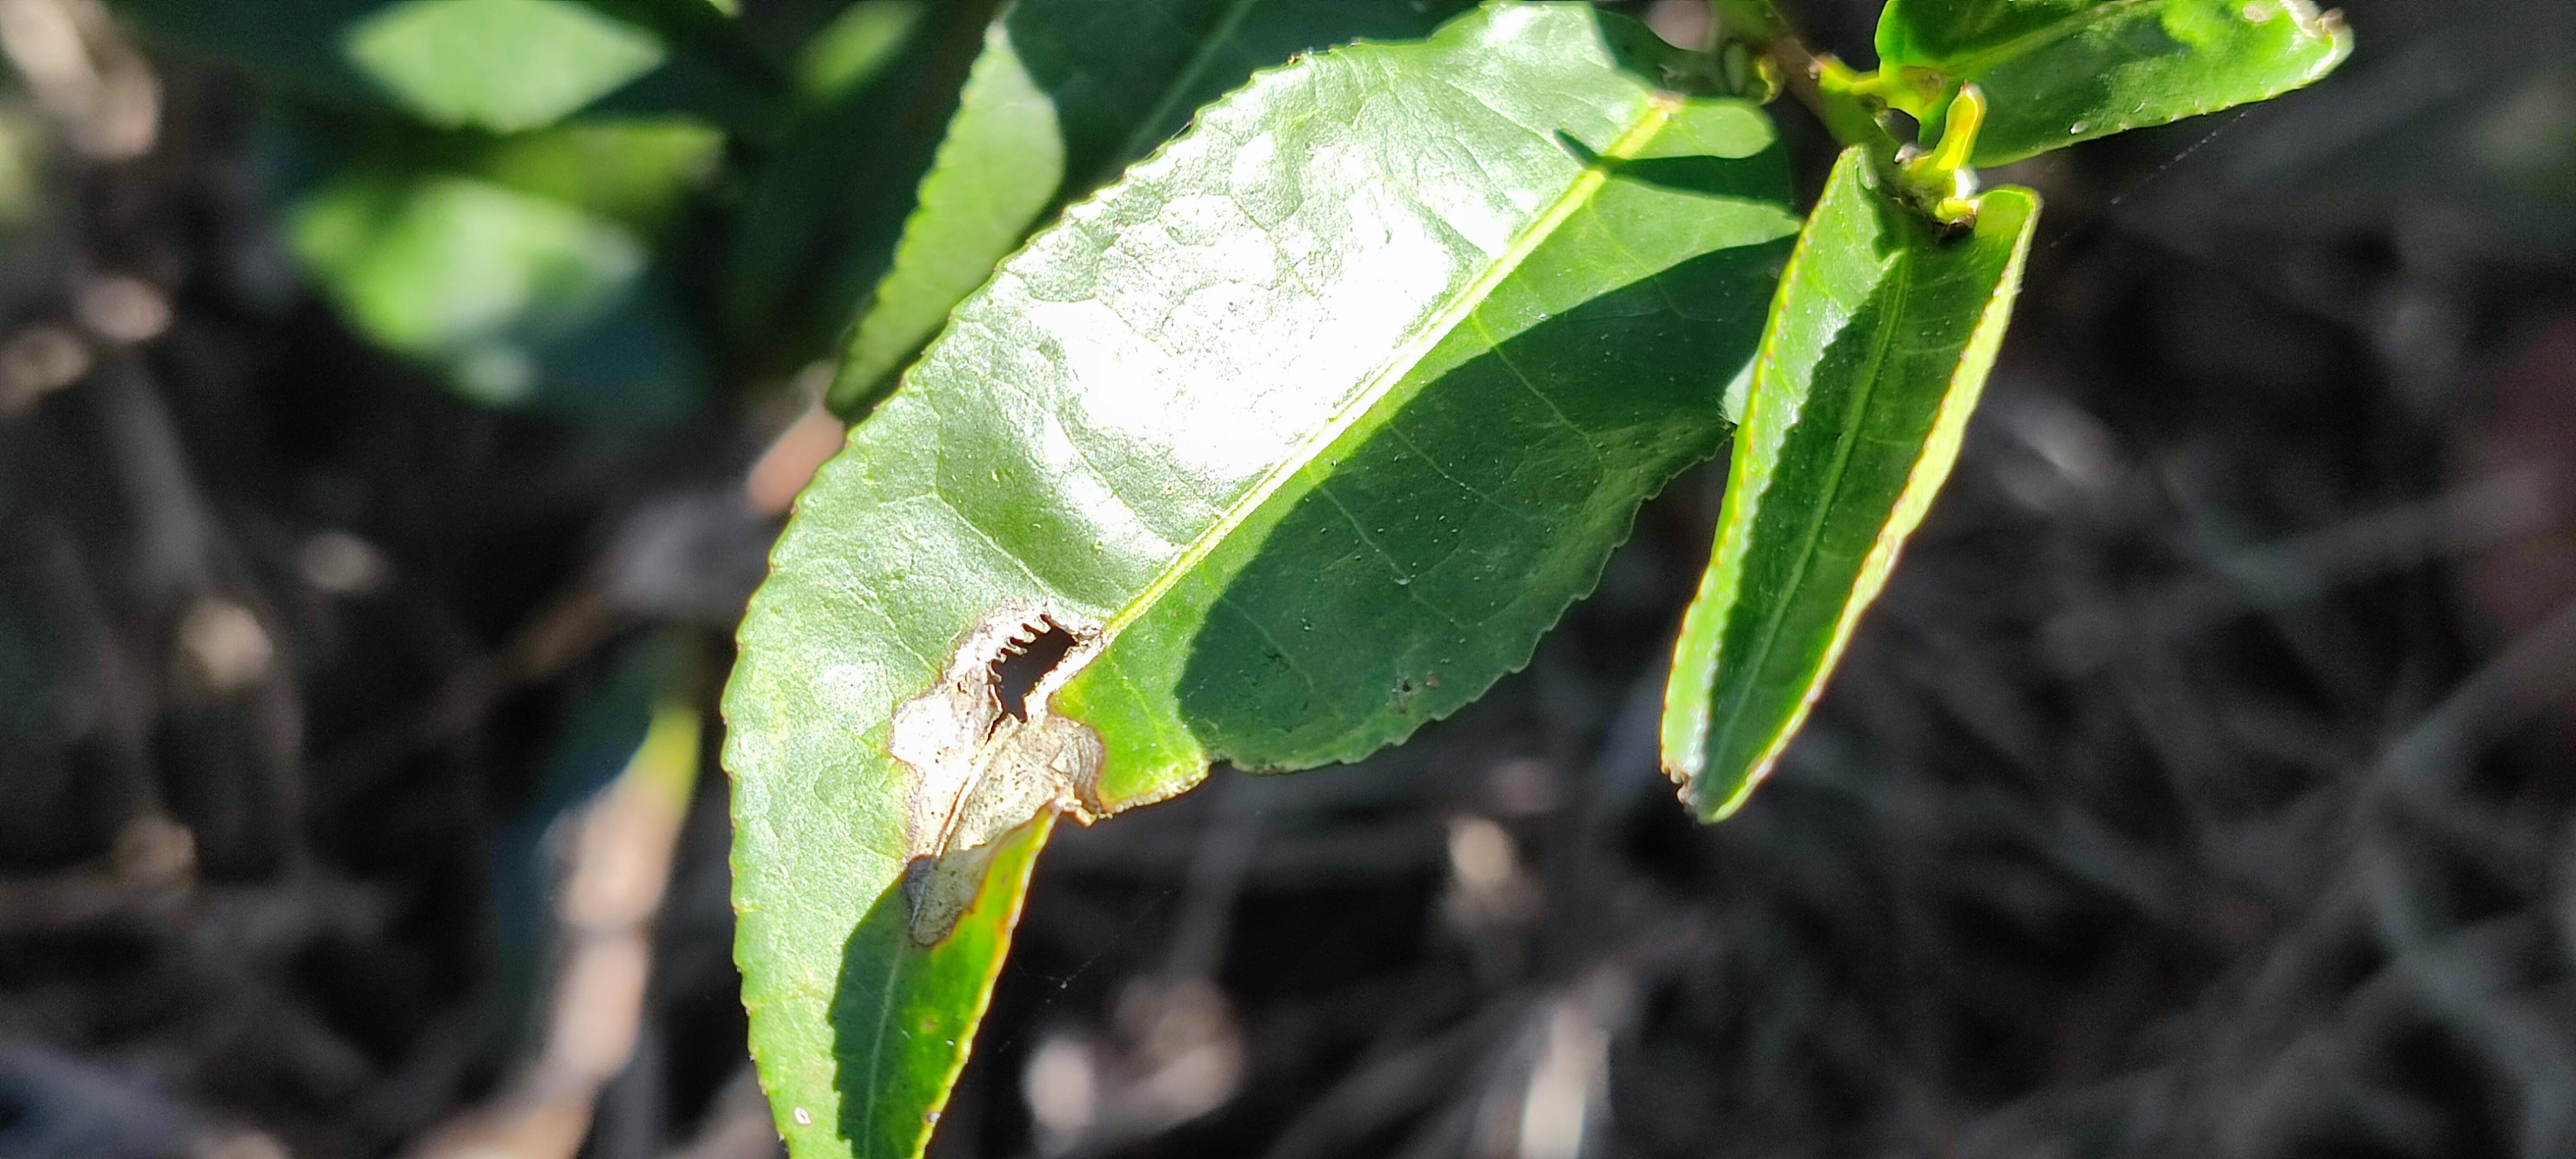tanju_high: (711, 8, 1799, 1159)
